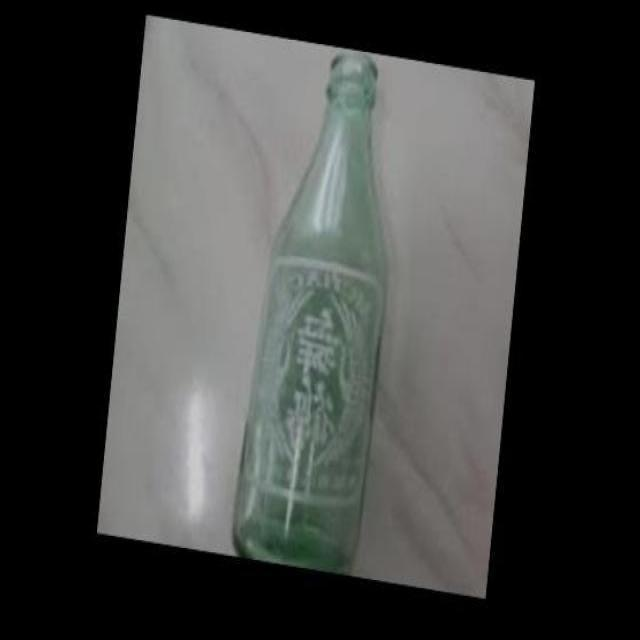Glass: (228, 38, 394, 582)
